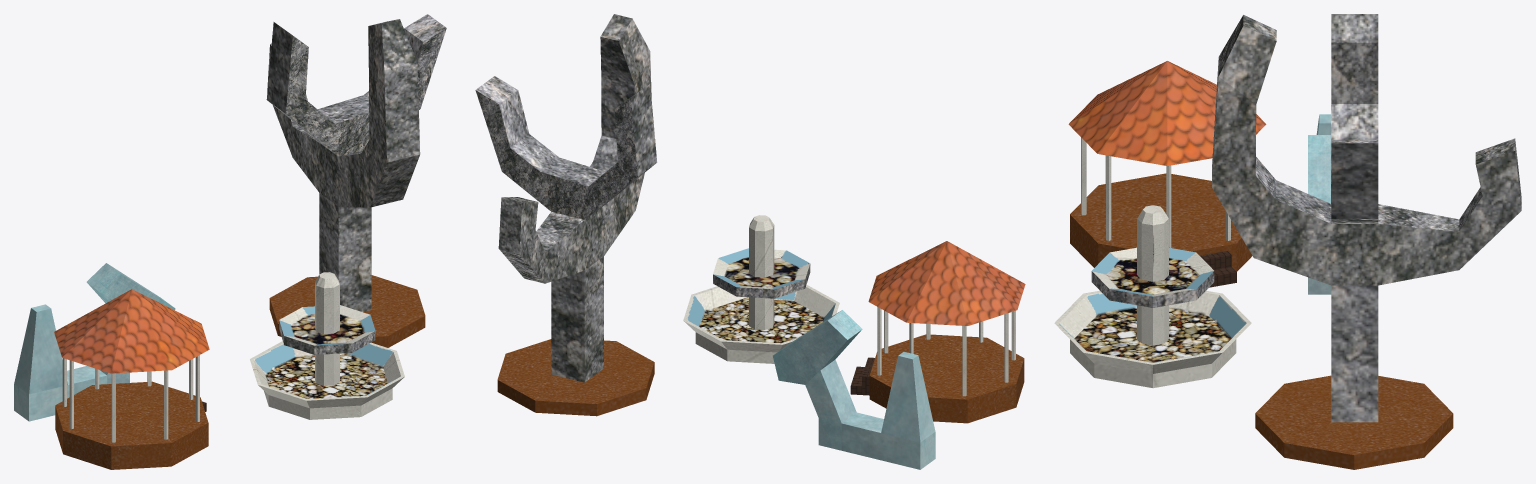
File: Moduloparque.obj
The picture shows the model from 3 angles, left to right: view 1: azimuth 30°, elevation 25°; view 2: azimuth 150°, elevation 25°; view 3: azimuth 270°, elevation 25°; orthographic projection. The views are drawn at different scales.
Visible parts, largest first — view 1: Cube; view 2: Cube; view 3: Cube.
Part boxes in pixels (<box>): Cube: <box>14,14,446,469</box>; Cube: <box>475,14,1025,469</box>; Cube: <box>1054,14,1521,469</box>.
Size of the model in its own units: 12.92 by 9.23 by 9.43.
